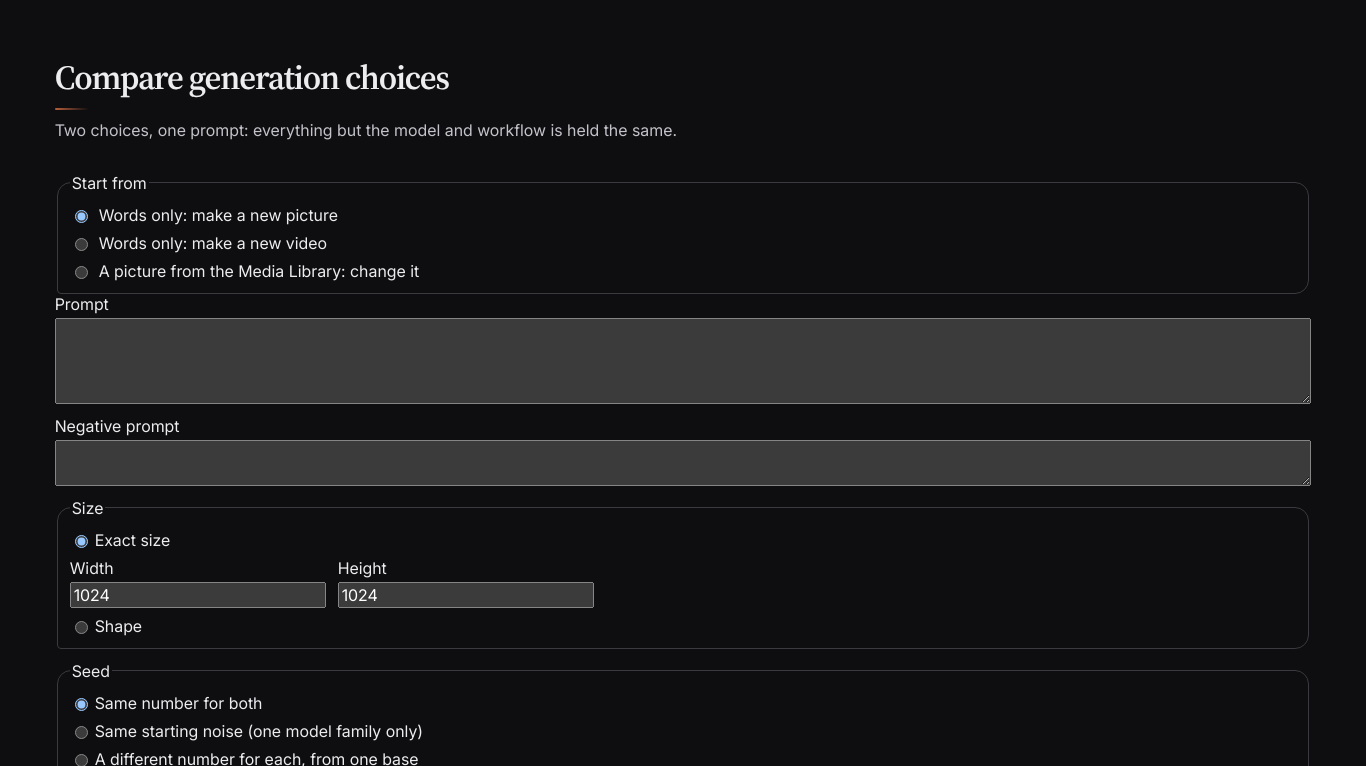
checking a comparison › sends the exact request and shows both choices as they would run
Type "A quiet harbor" into the text box labelled "Prompt" at (683, 361), box [55,318,1311,404]
(page scrolled)
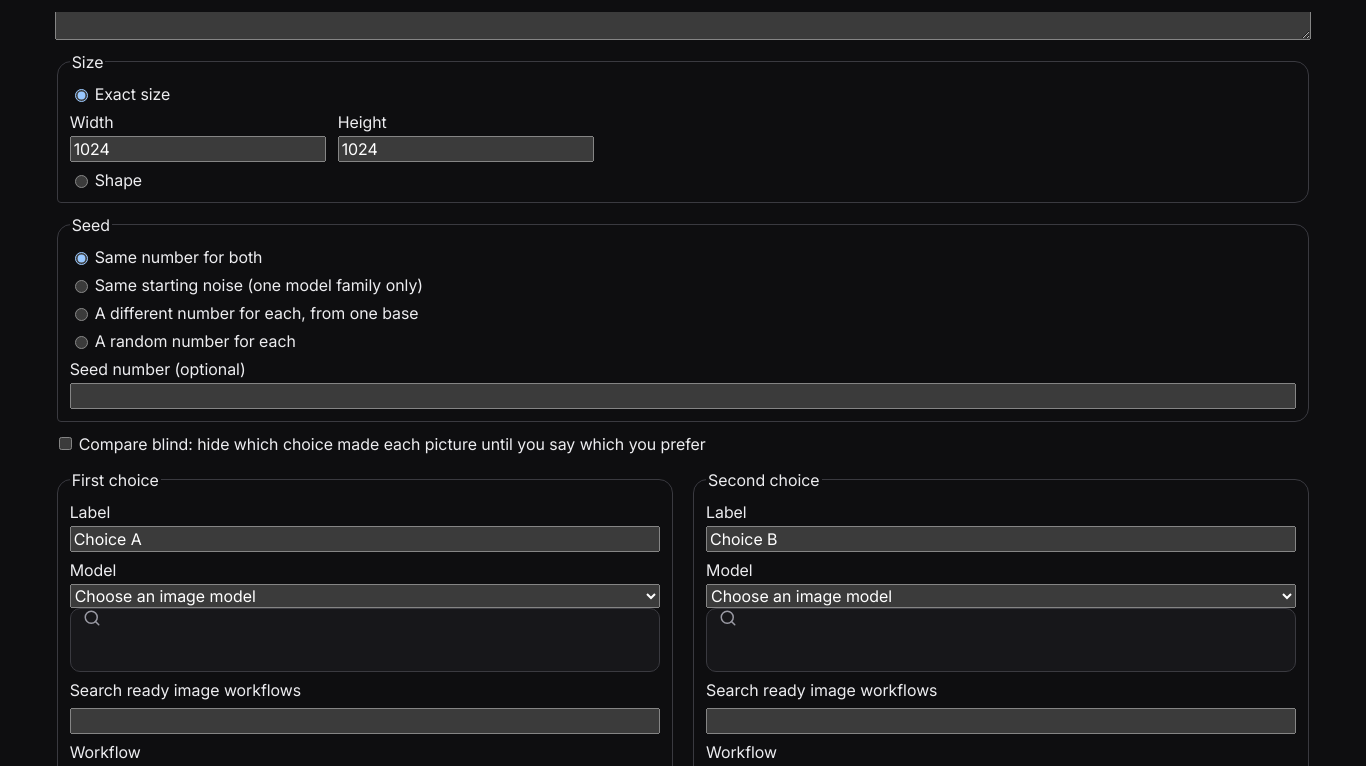
Type "41" into the field labelled "Seed number (optional)" at (683, 396), box [70,383,1296,409]
Select "Harbor model" in the dropdown labelled "Model" below "First choice" at (365, 596), box [70,584,660,608]
(page scrolled)
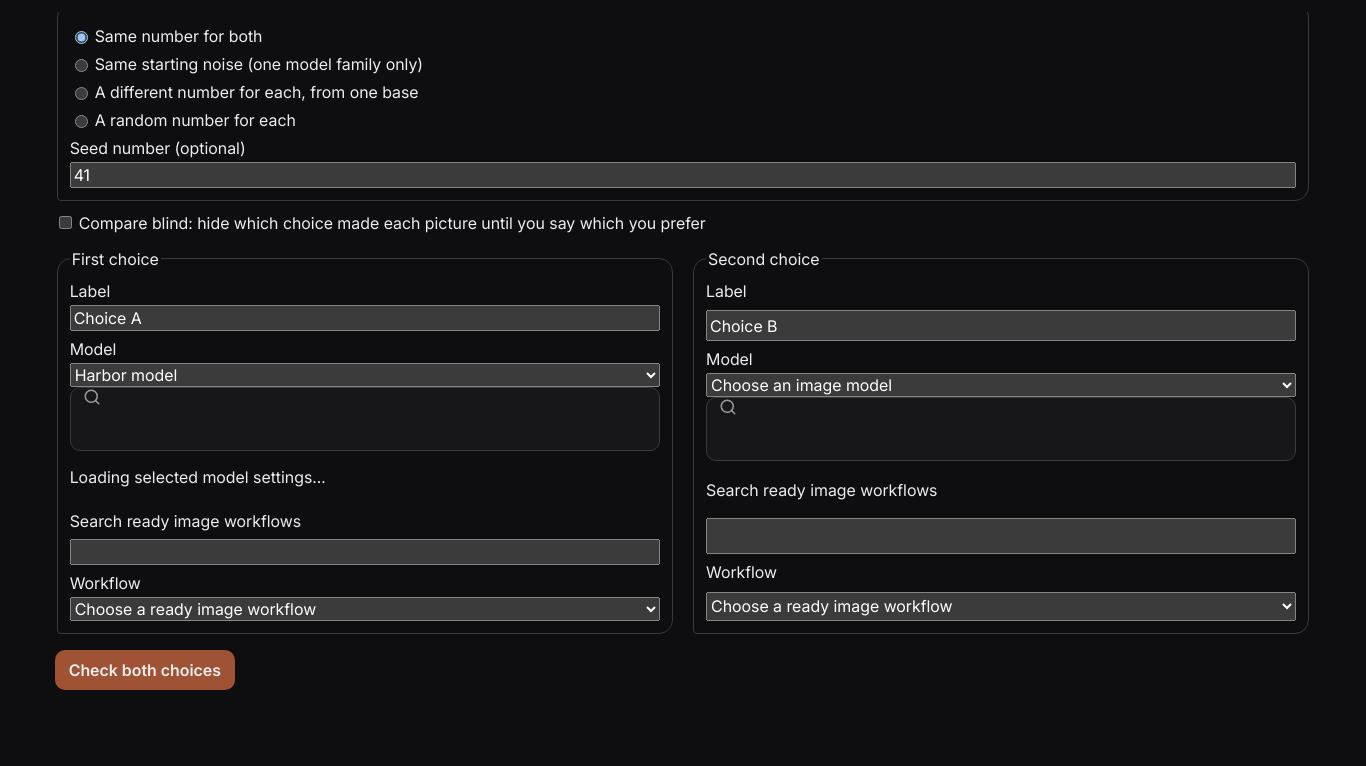
Select "Scenes - Quick · v2" in the dropdown labelled "Workflow" below "Loading selected model settings…" at (365, 609), box [70,597,660,621]
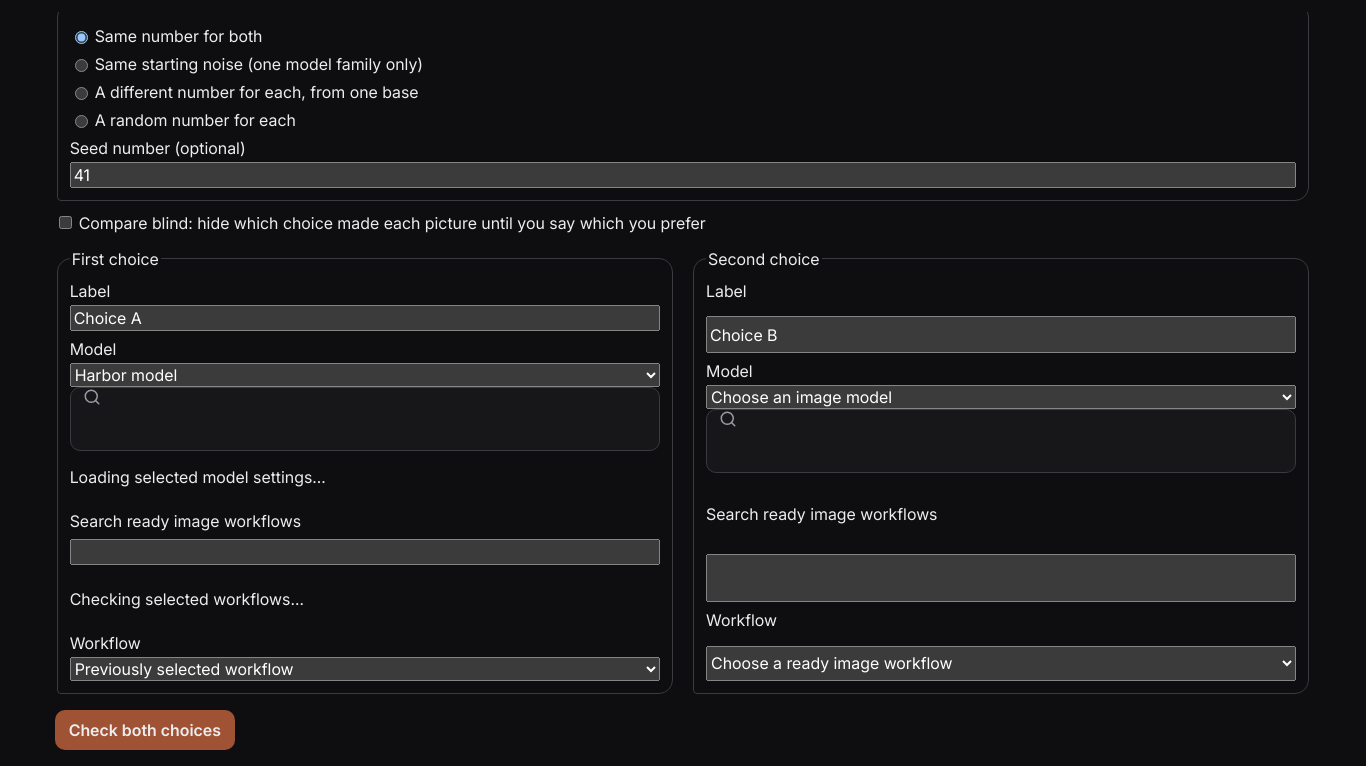
Select "Lighthouse model" in the dropdown labelled "Model" below "Second choice" at (1001, 397), box [706,385,1296,409]
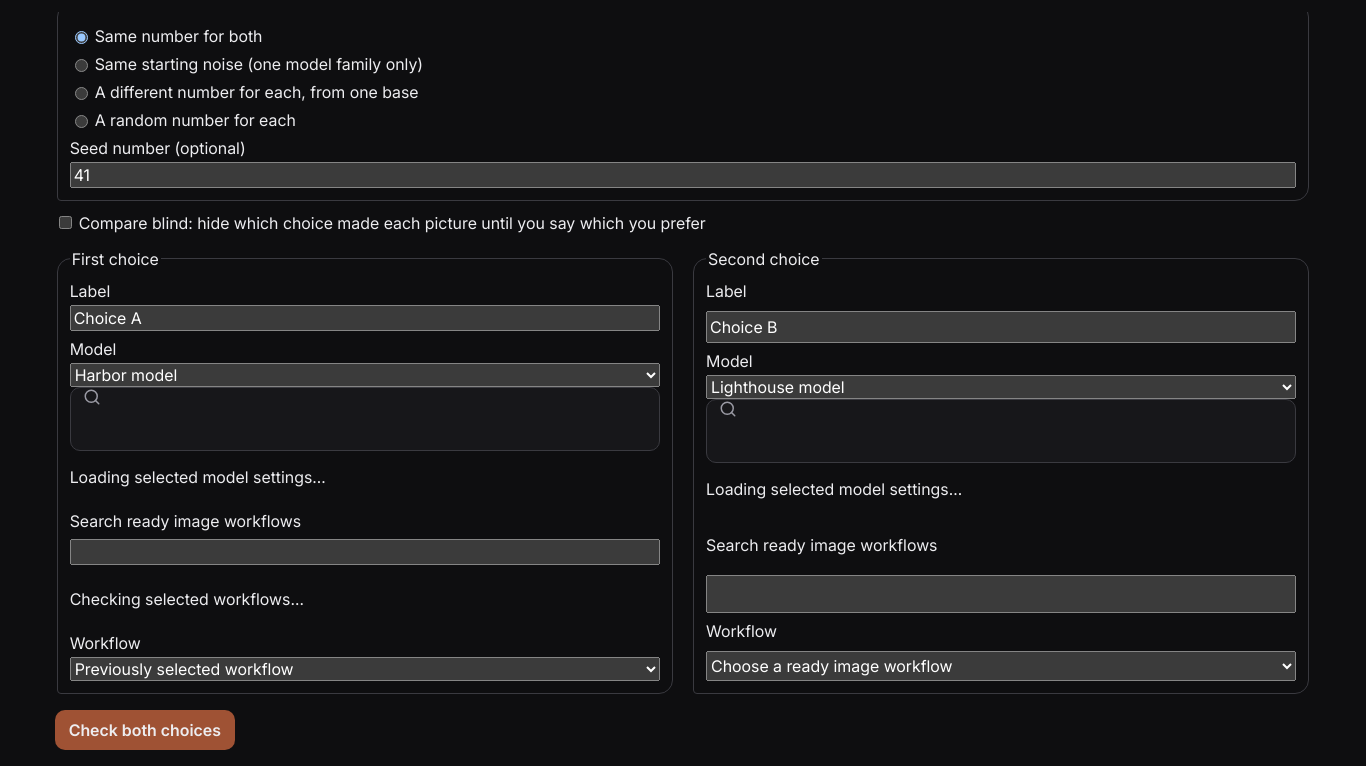
Select "Scenes - Careful · v5" in the 2nd dropdown labelled "Workflow" at (1001, 666), box [706,651,1296,681]
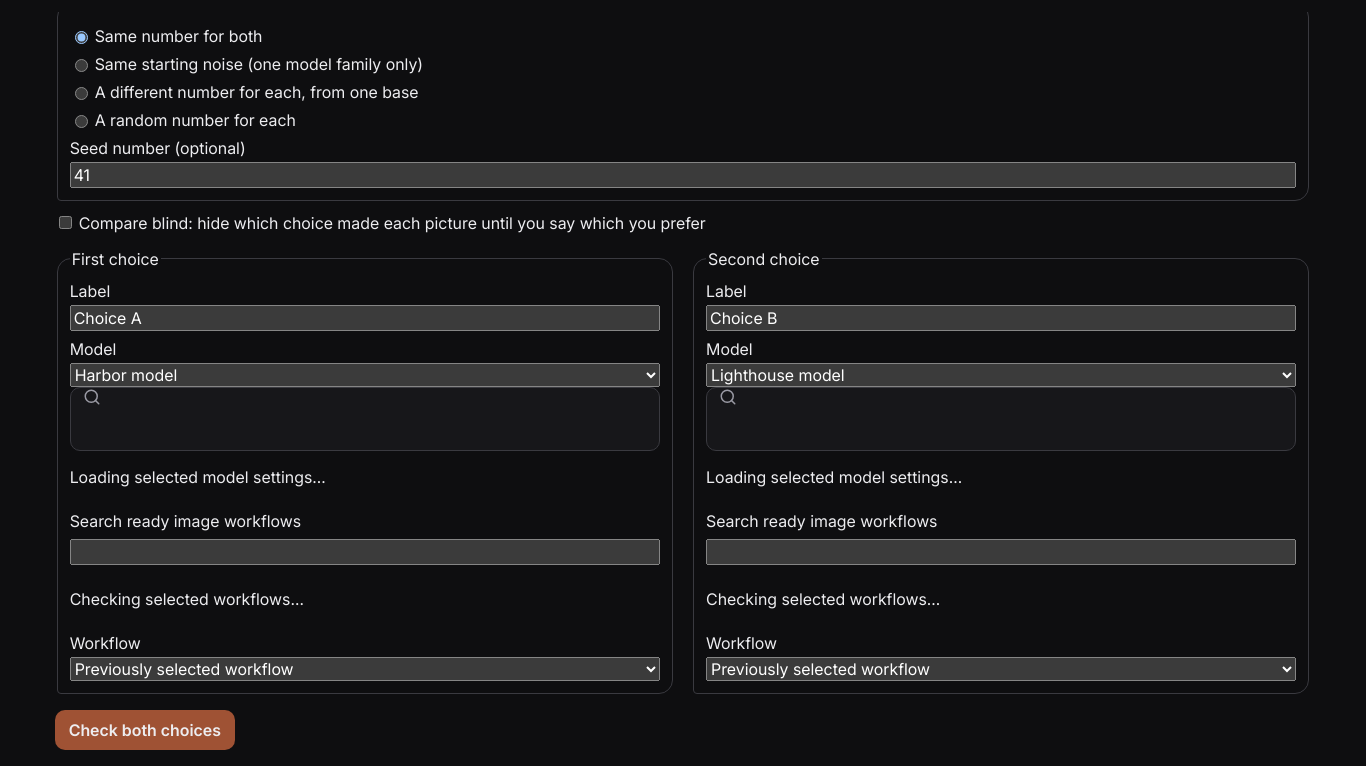
Click the button "Check both choices" at (145, 730), box [55,710,235,750]
(page scrolled)
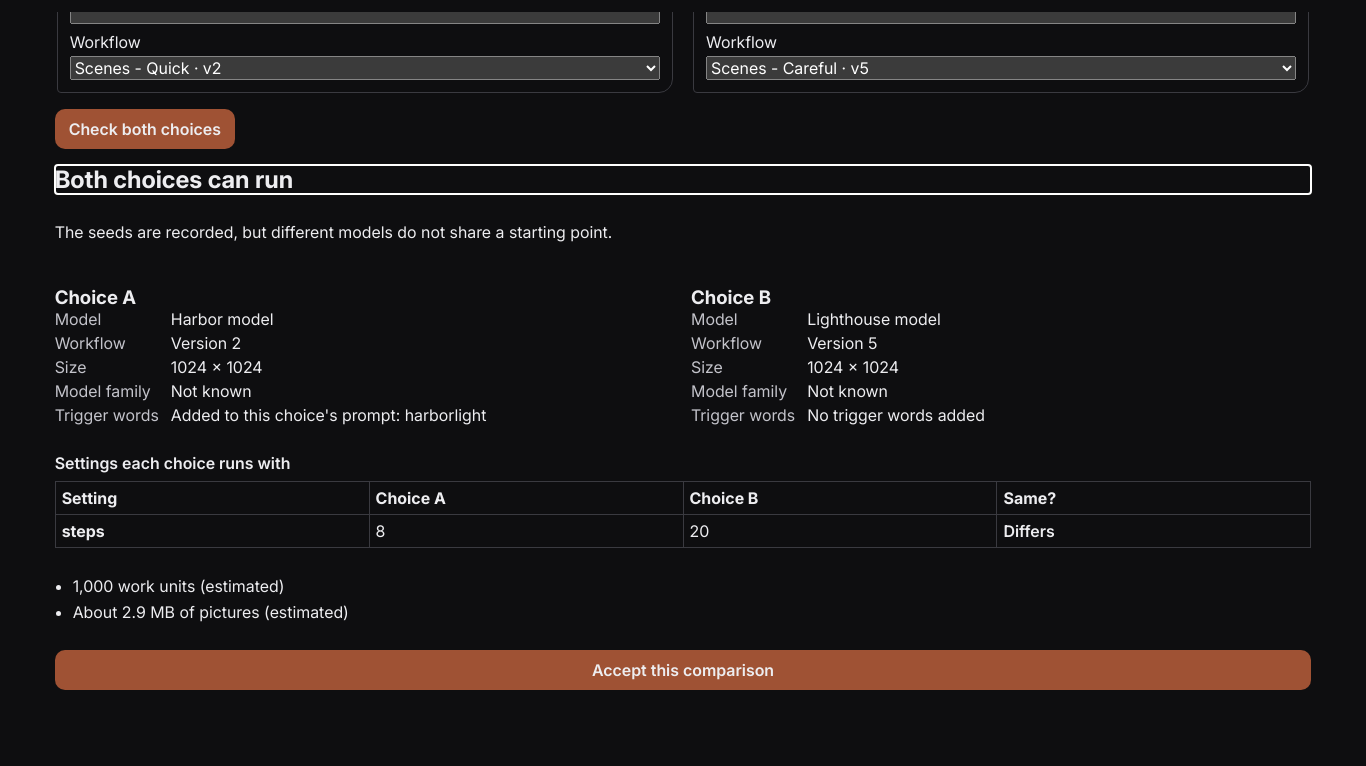
Now the text "Added to this choice's prompt: harborlight" is shown, box [171,405,486,425]
Now the text "No trigger words added" is shown, box [807,405,985,425]
Now the row "steps 8 20 Differs" is shown, box [55,514,1311,547]
